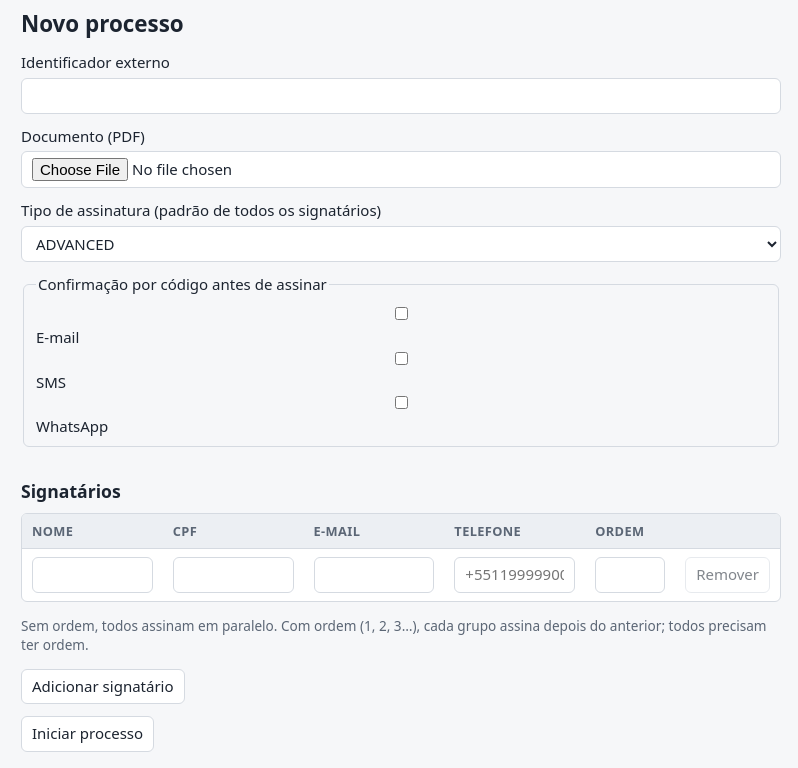
Scenario: new process form › adds and removes signers in the table
(page scrolled)
Check: the number of rows is 2, box [22,514,780,549]; [22,549,780,601]
Check: the button with aria-label "Remover signatário 1" is disabled, box [685,557,770,593]
Click the button "Adicionar signatário" at (103, 686), box [21,668,184,704]
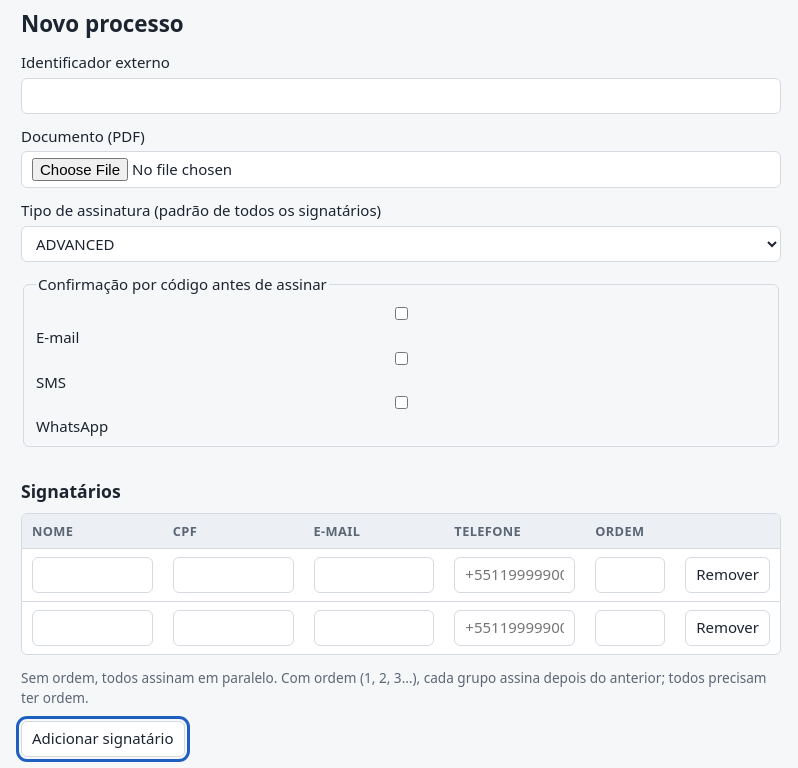
Click the button "Adicionar signatário" at (103, 739), box [21,721,184,757]
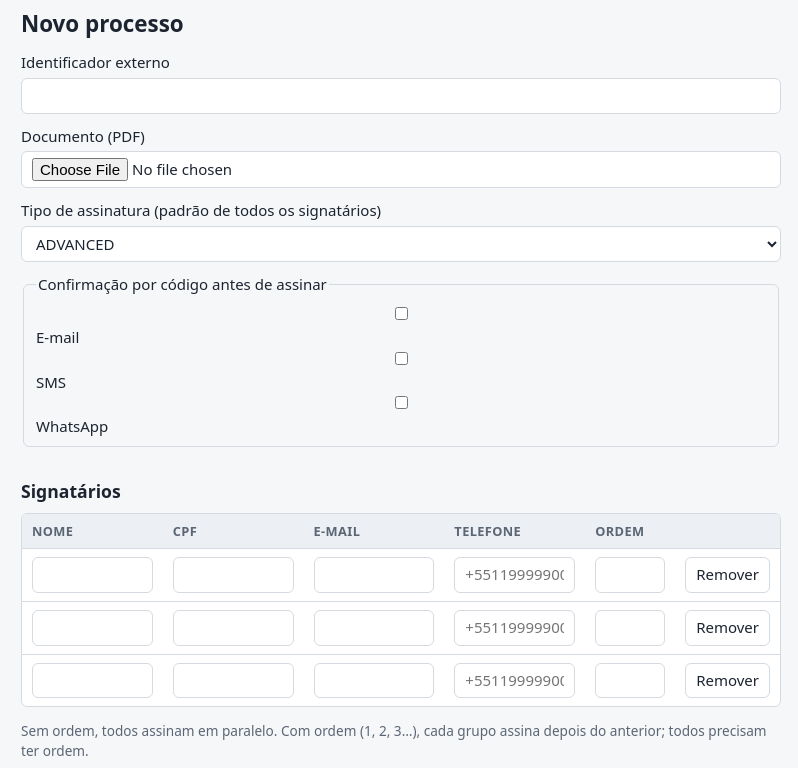
Check: the number of rows is 4, box [22,514,780,549]; [22,549,780,602]; [22,601,780,654]; [22,654,780,706]
Type "Segundo" into the field named "Nome do signatário 2" at (92, 628), box [32,610,153,646]
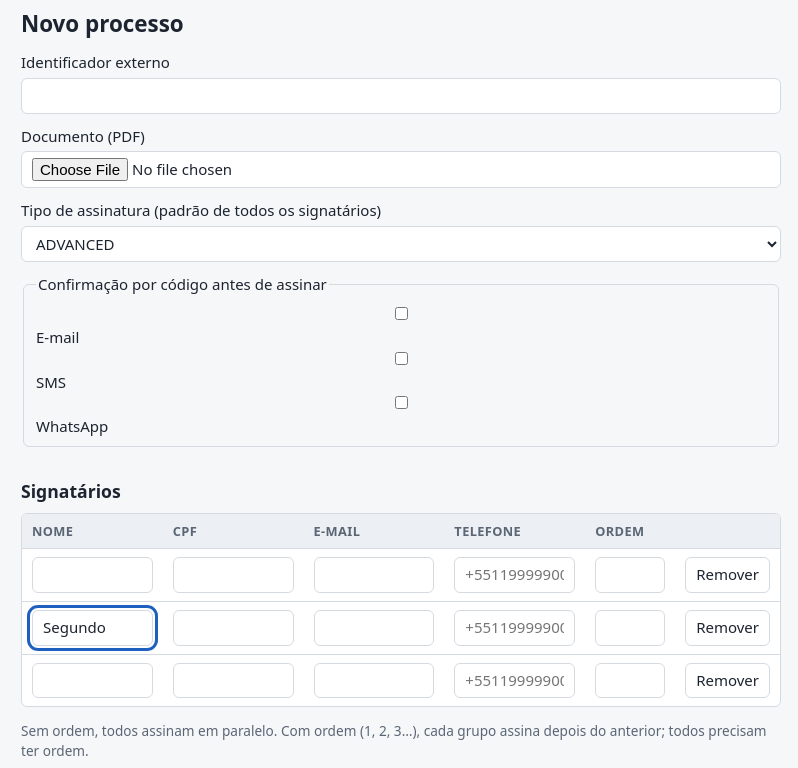
Click the button with aria-label "Remover signatário 1" at (728, 575), box [685,557,770,593]
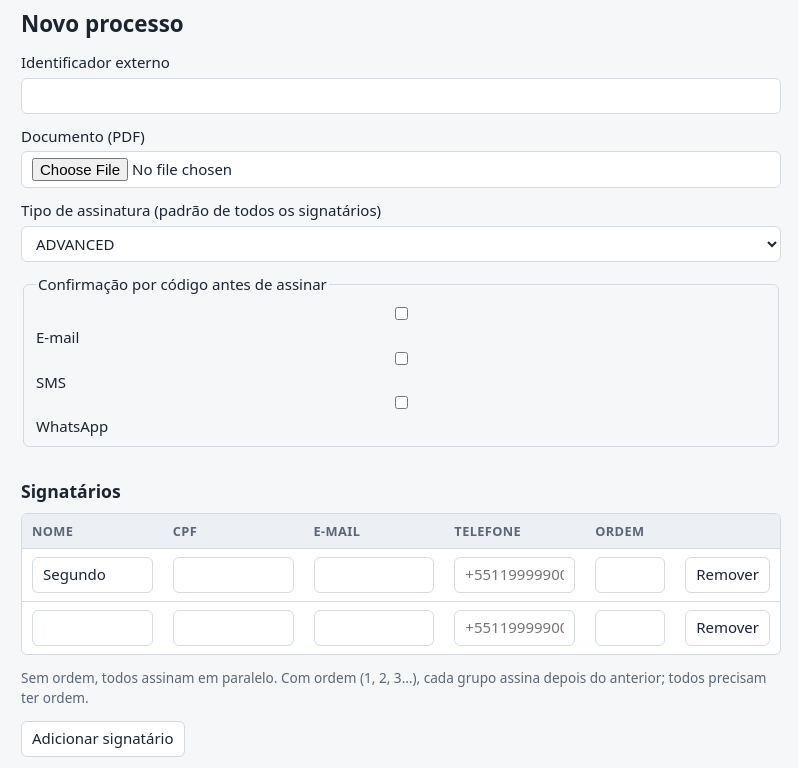
Check: the number of rows is 3, box [22,514,780,549]; [22,549,780,602]; [22,601,780,654]
